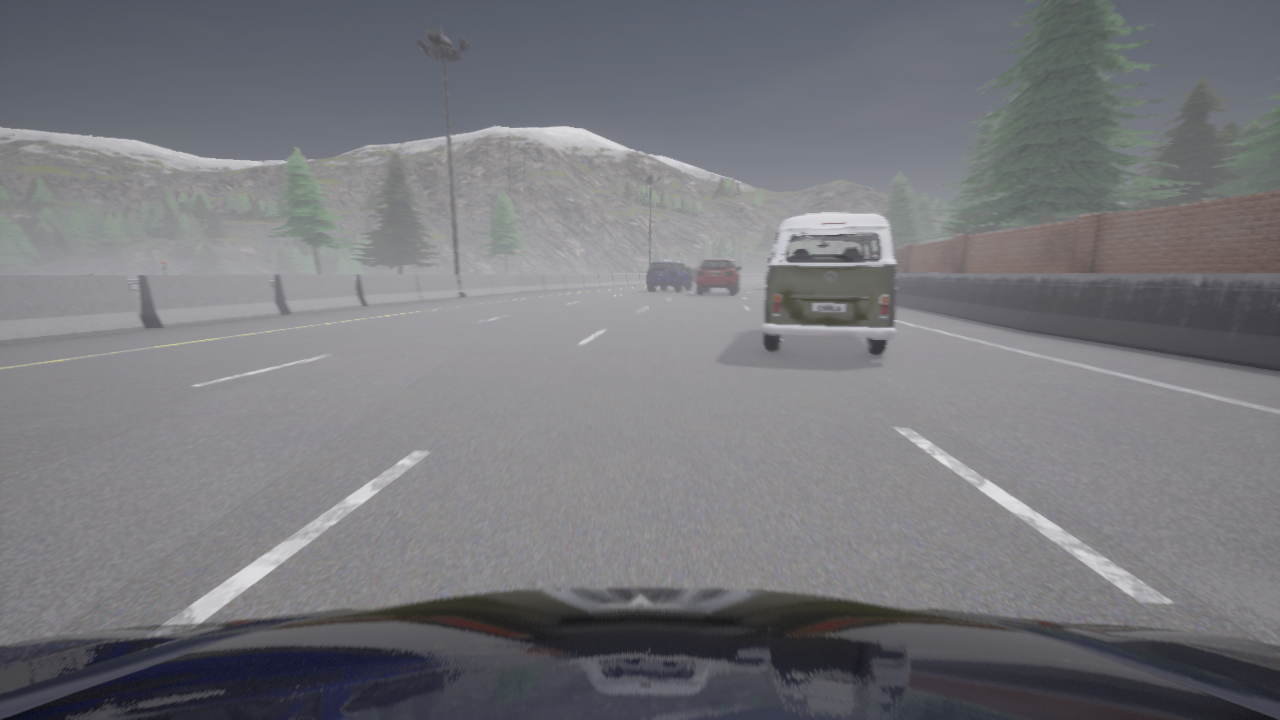cyclist: (0, 588, 1279, 719), (762, 213, 896, 355), (697, 258, 740, 294), (647, 261, 691, 291), (690, 268, 699, 283), (766, 261, 769, 284), (685, 266, 691, 273)
